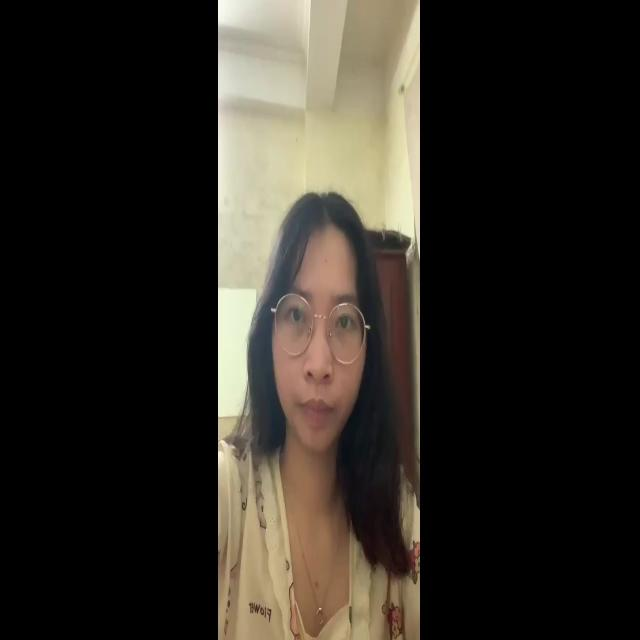student: (216, 180, 416, 626)
